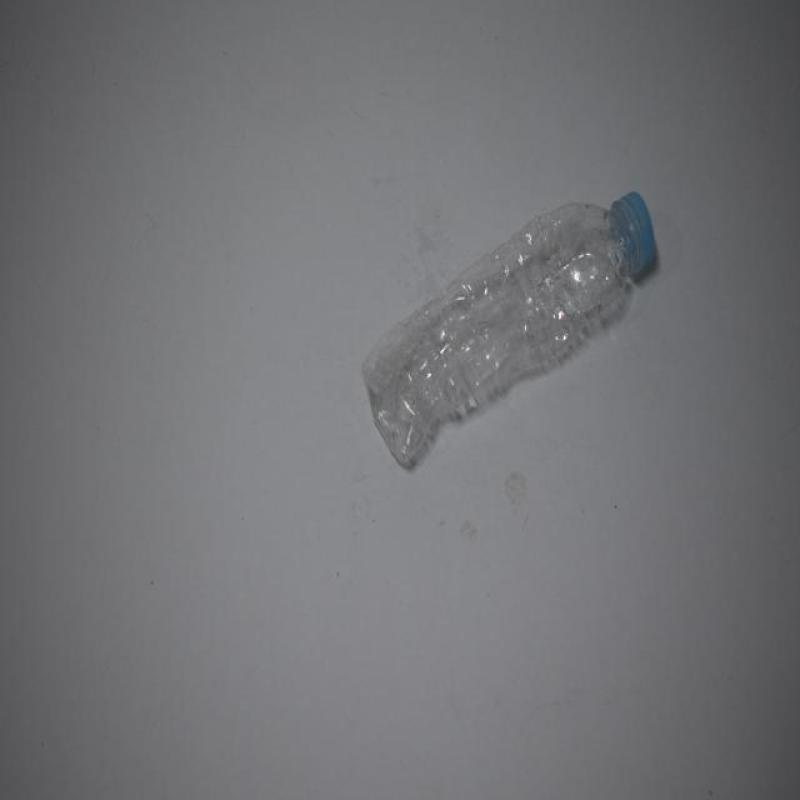botella: (363, 196, 659, 466)
